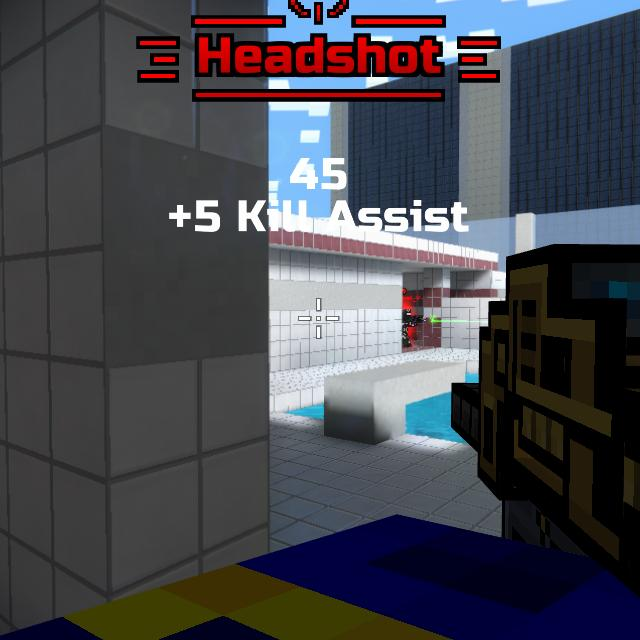Enemy: (401, 308, 414, 349)
